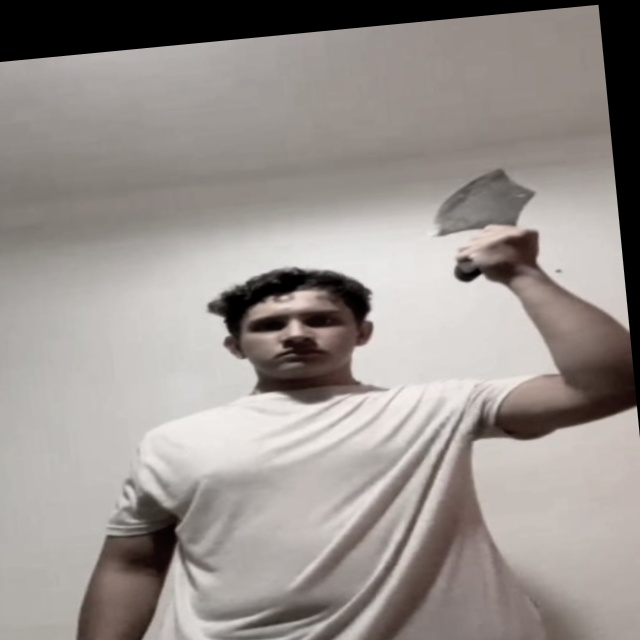Sharp-Object: (433, 166, 544, 234)
